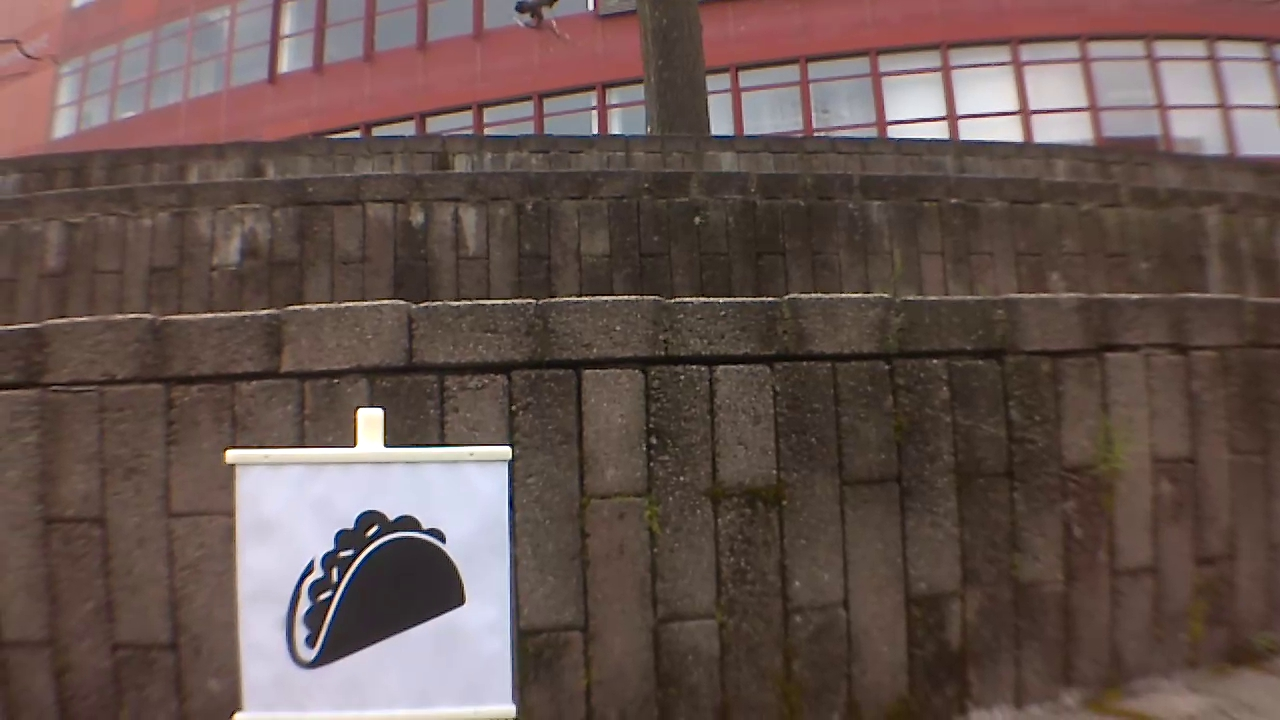taco: (270, 495, 471, 676)
